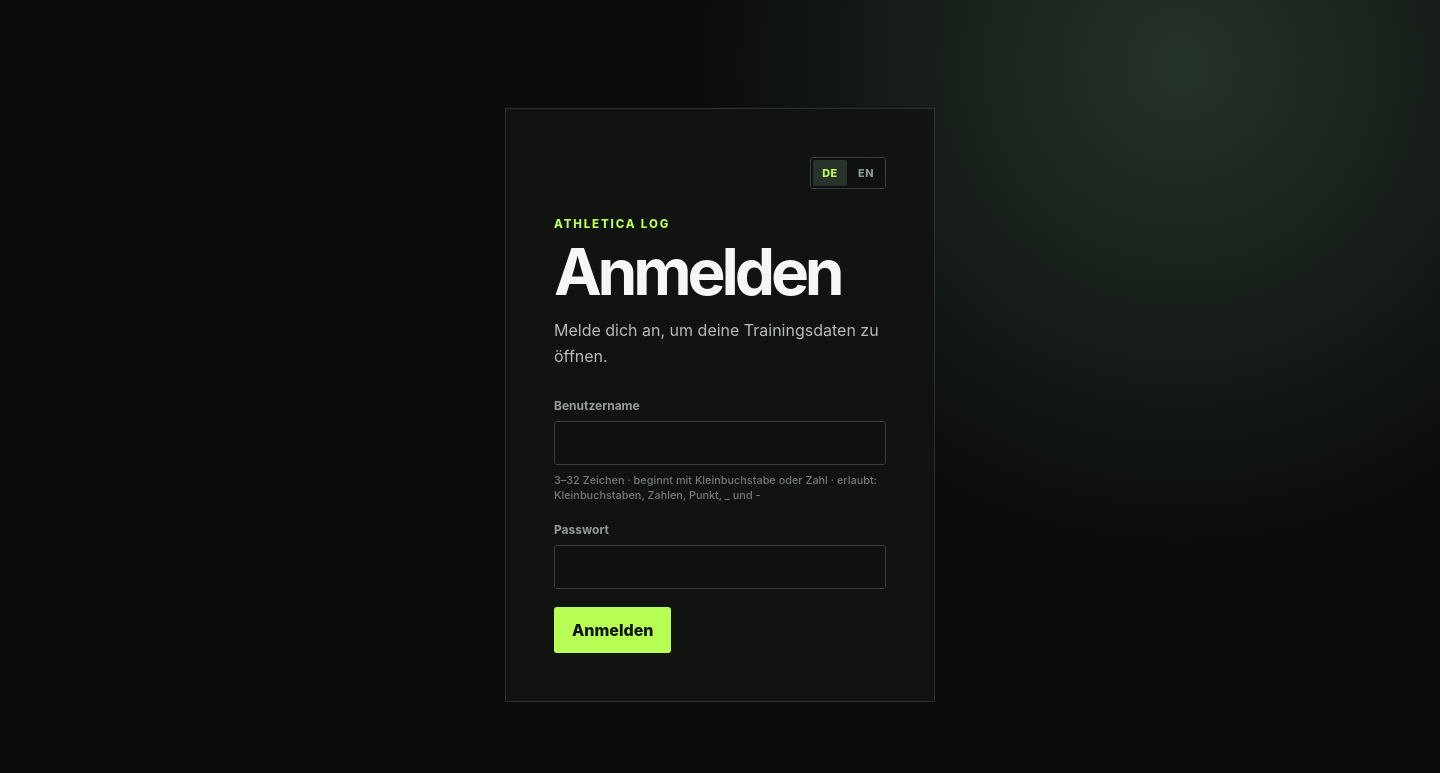
Home › requires a successful login before showing training data
Expected: the heading "Anmelden" is shown, [554, 243, 886, 300]
Type "athletica" into the field labelled "Benutzername" at point(720, 443), box [554, 421, 886, 465]
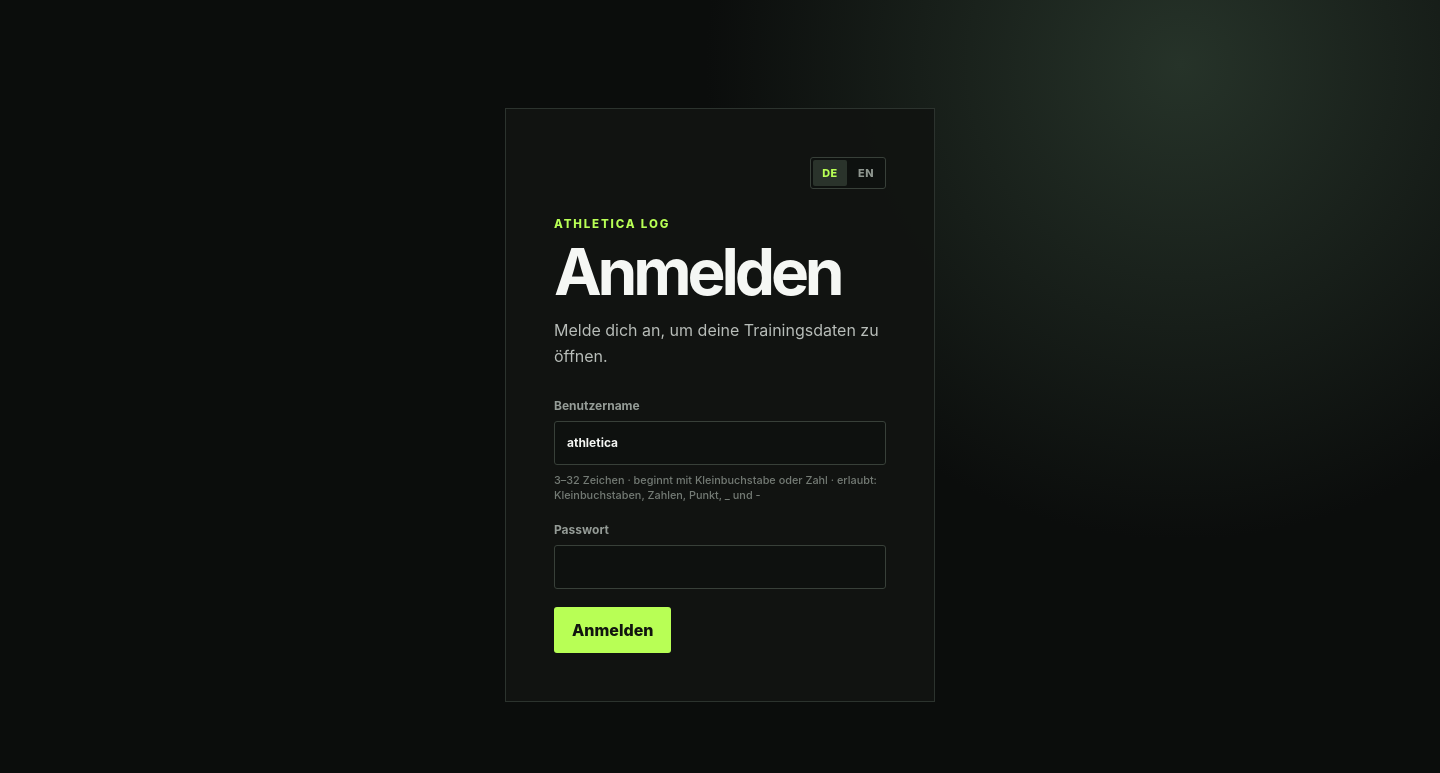
Type "a-strong-password" into the password field labelled "Passwort" at point(720, 567), box [554, 545, 886, 589]
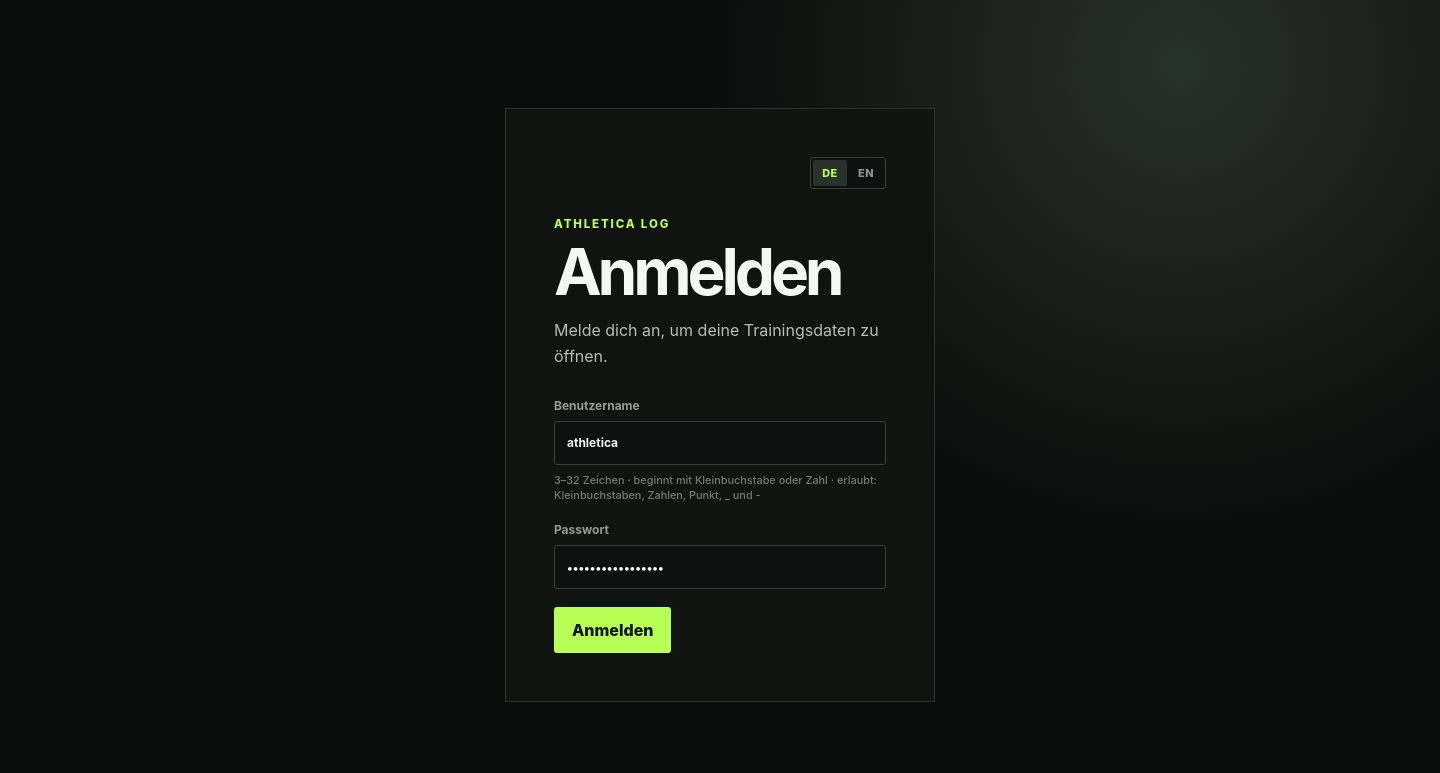
Click the button "Anmelden" at point(613, 630), box [554, 607, 671, 653]
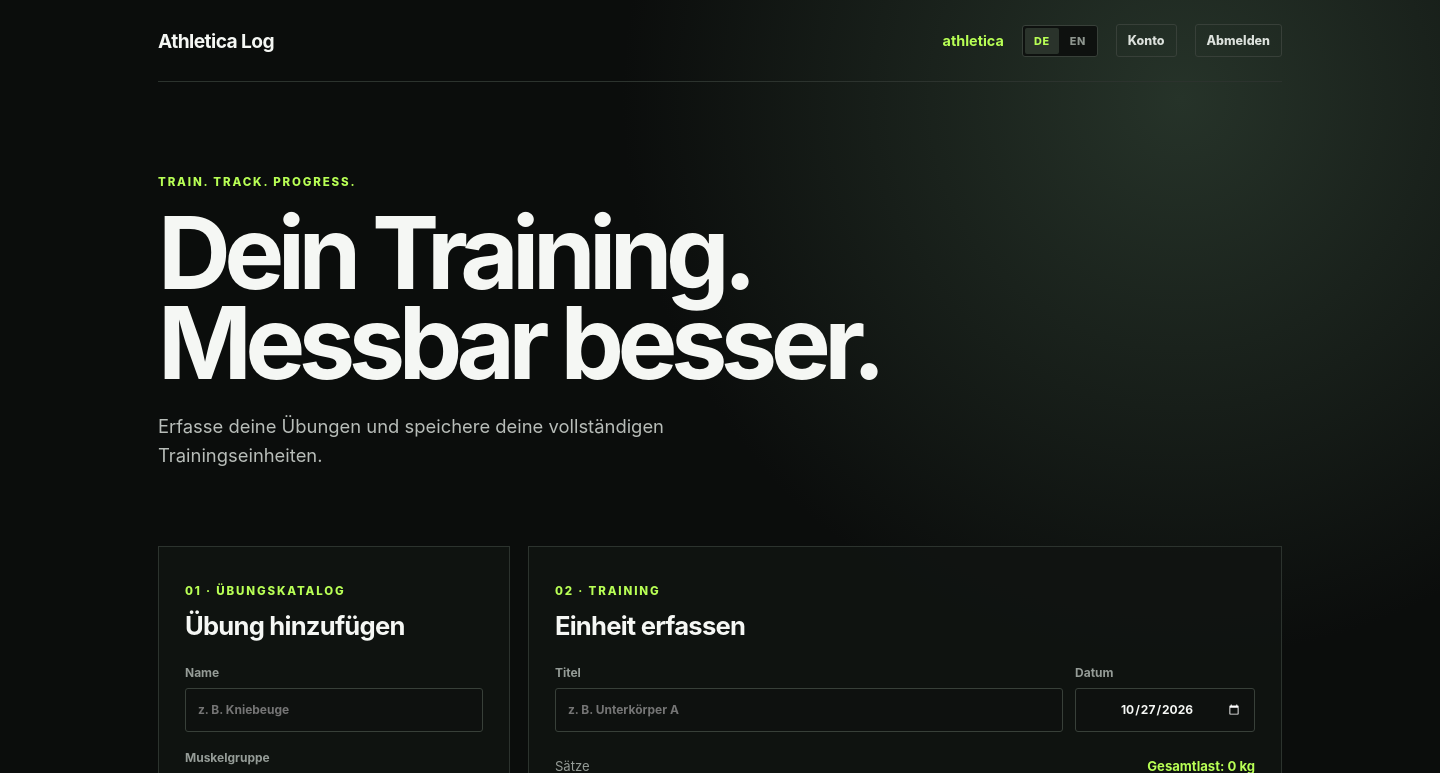
Expected: the heading "Einheit erfassen" is shown, [555, 610, 745, 641]
